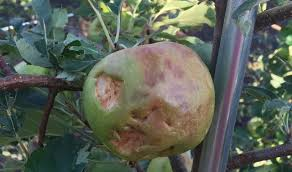damaged_apple: (84, 43, 213, 162)
